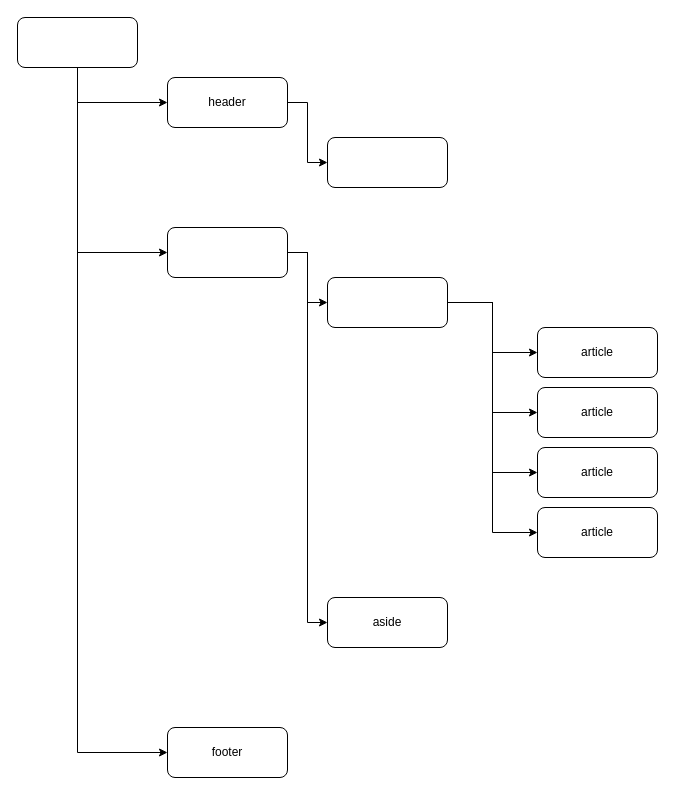
This 675x795 diagram has some shape labels left out. Each missing label, with the centre of its shape:
"articles" goes at pixel 387 302.
"nav" goes at pixel 387 162.
"section" goes at pixel 227 252.
"wrapper" goes at pixel 77 42.
